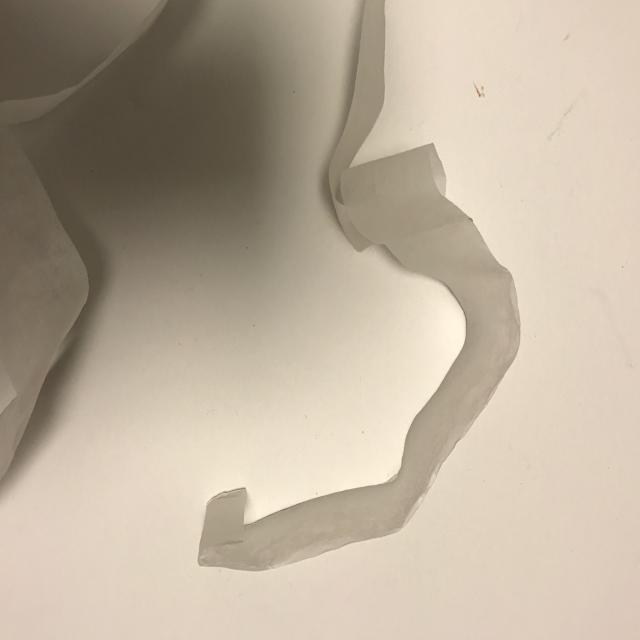trash: (192, 0, 524, 602)
